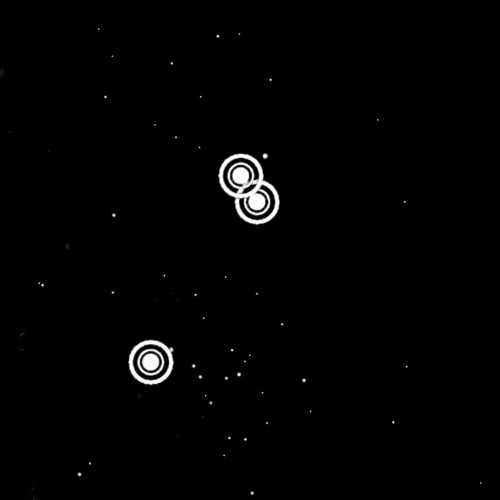canis_minor: (119, 145, 287, 398)
